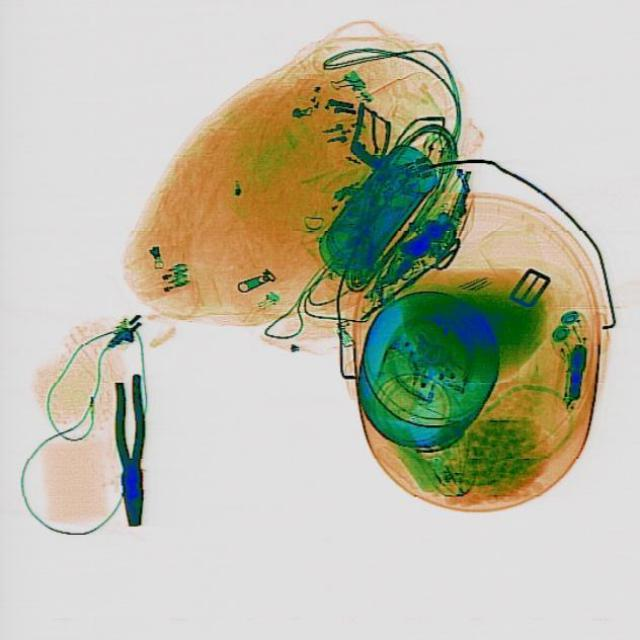Pliers: (108, 373, 152, 525)
